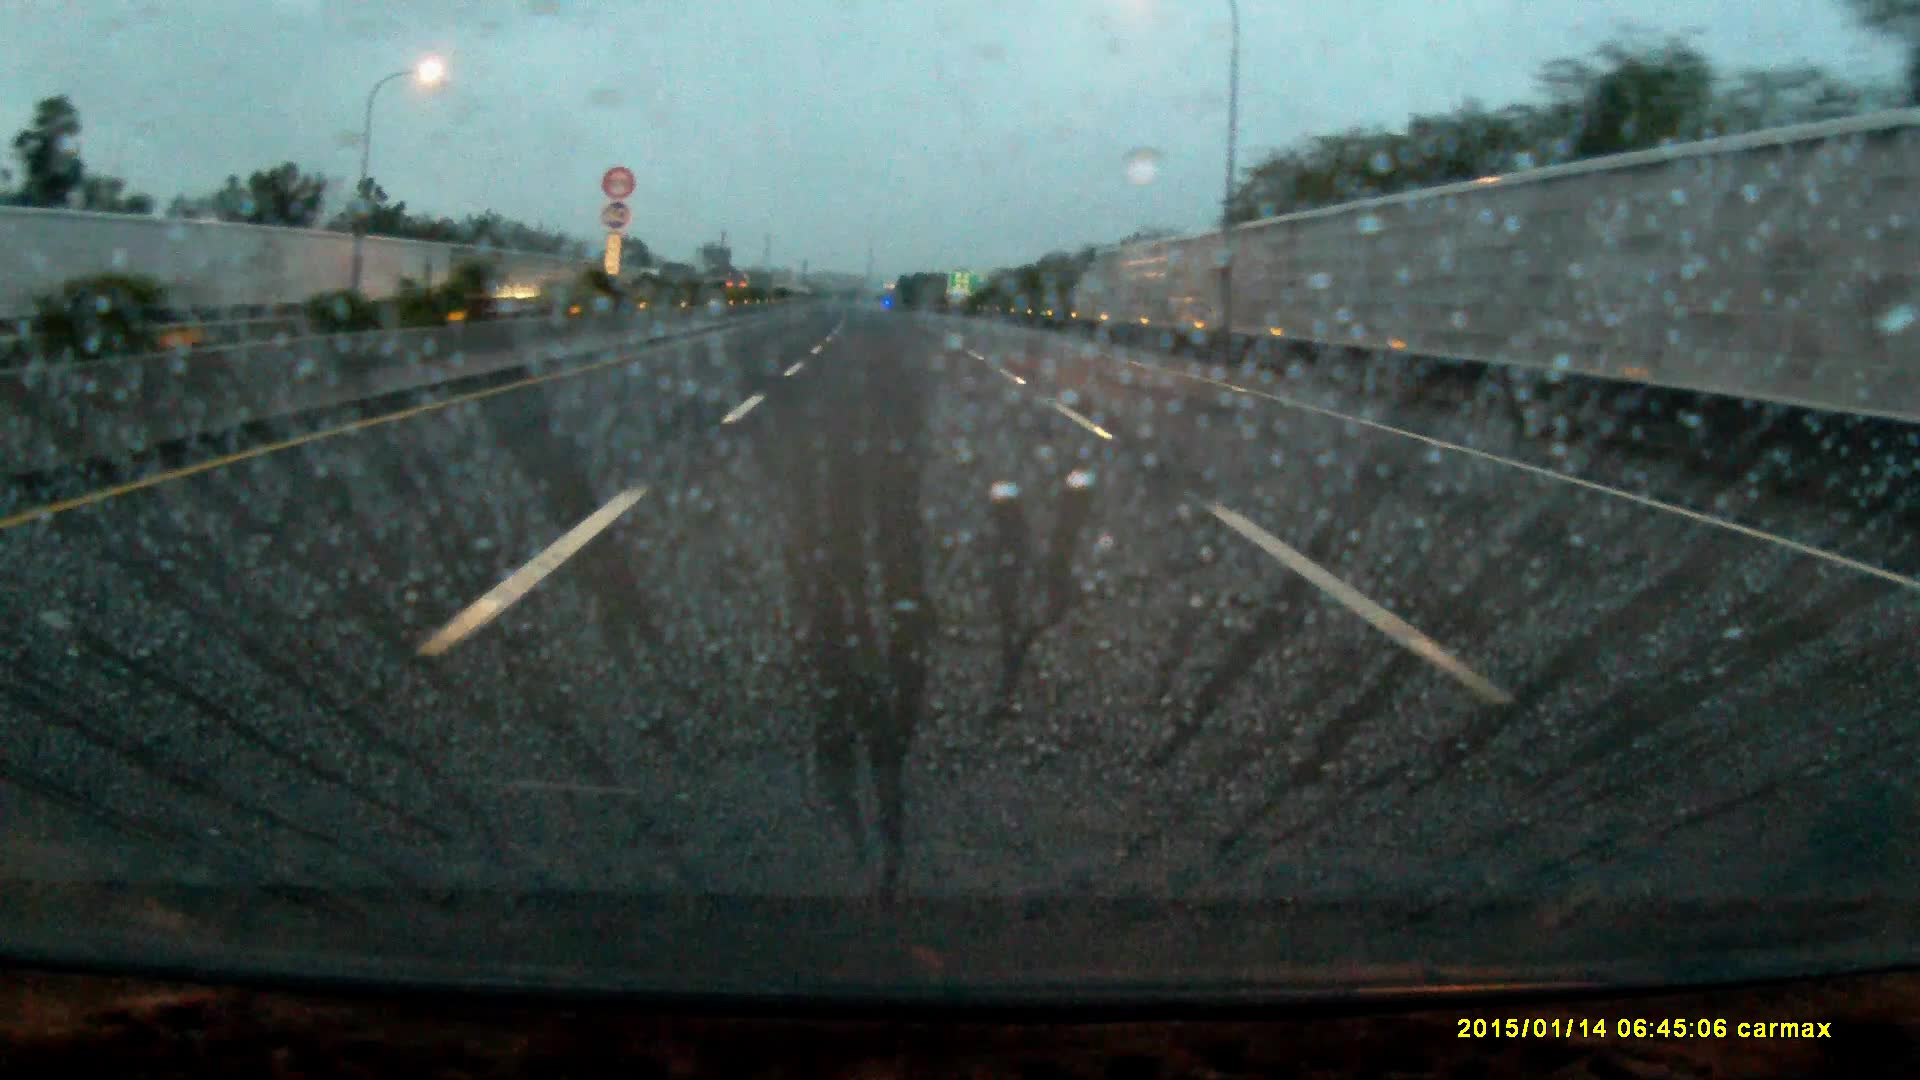vehicle: (727, 280, 754, 306)
